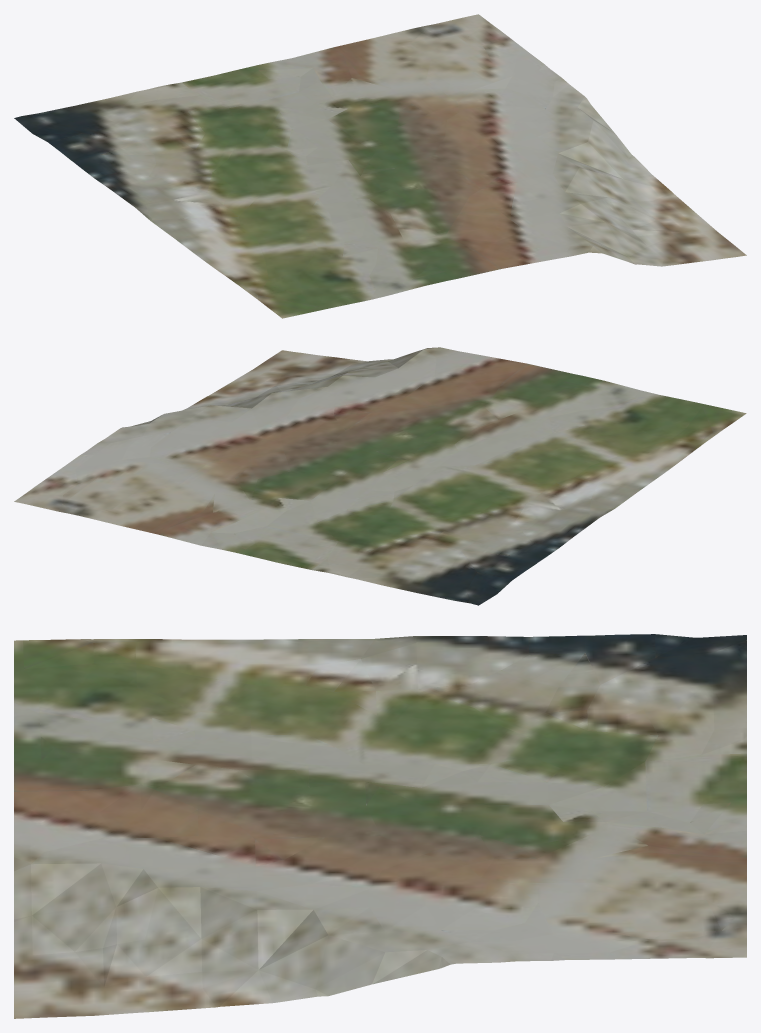
3 renders of one model, top to bottom at view 1: azimuth 30°, elevation 25°; view 2: azimuth 150°, elevation 25°; view 3: azimuth 270°, elevation 25°, orthographic. The views are drawn at different scales.
Bounding box in the file's own units: 52.22 × 5.9 × 52.22.
Materials: 2 (2 with a texture image).
